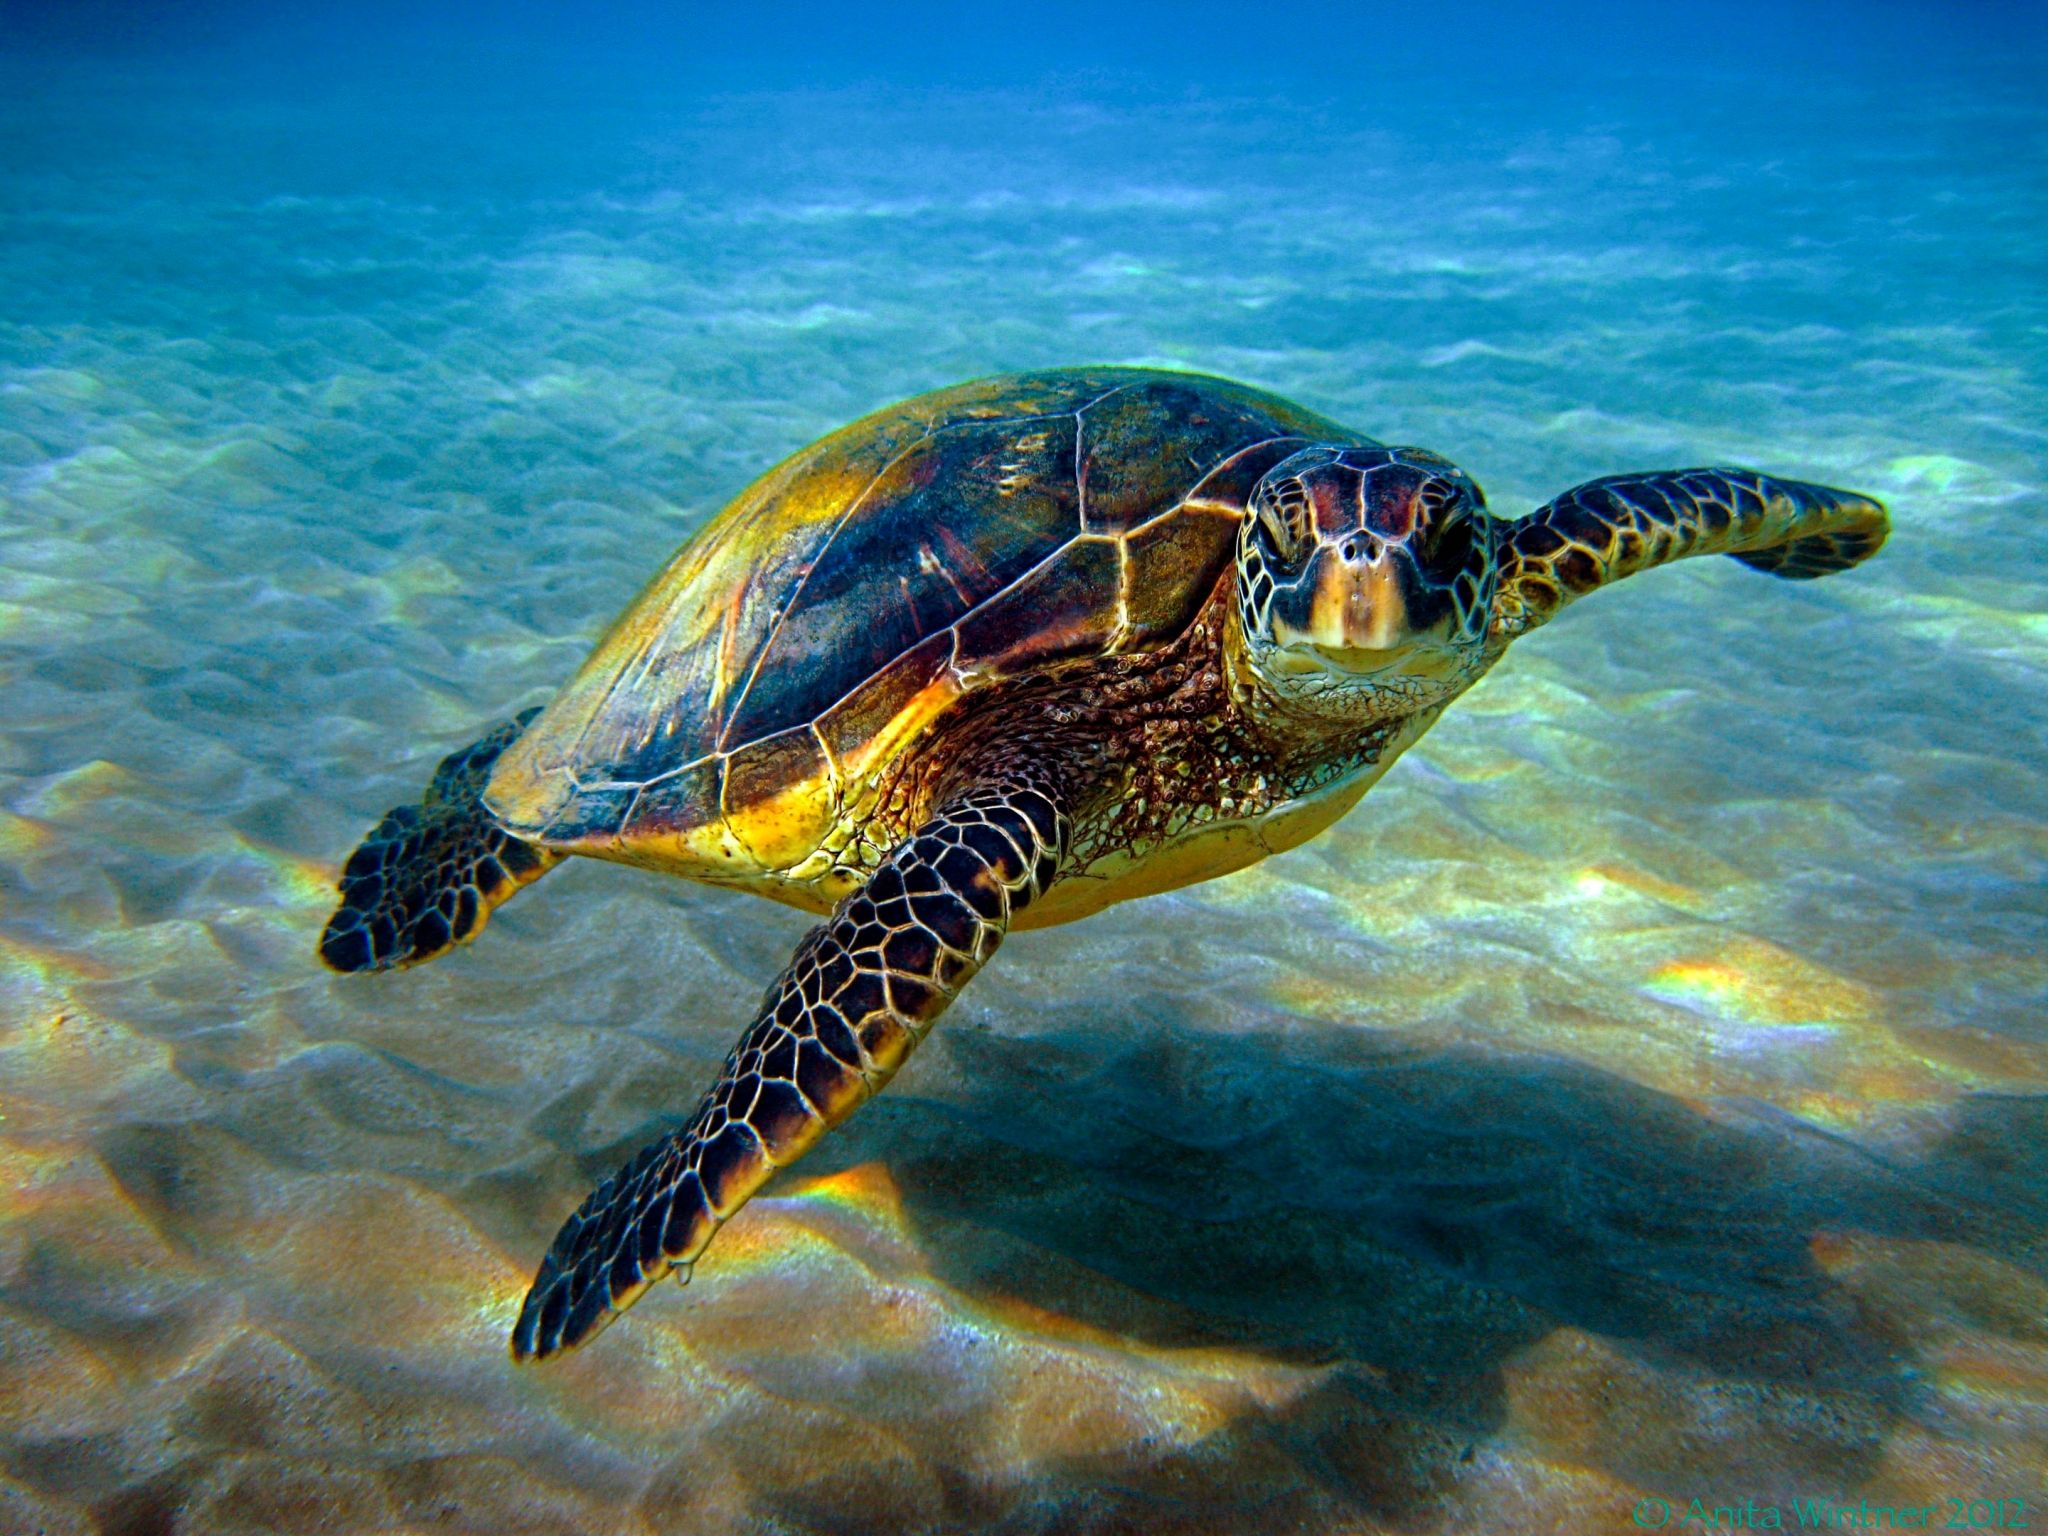eye: (1419, 508, 1484, 587), (1248, 502, 1311, 573)
mouth: (1247, 624, 1495, 716)
